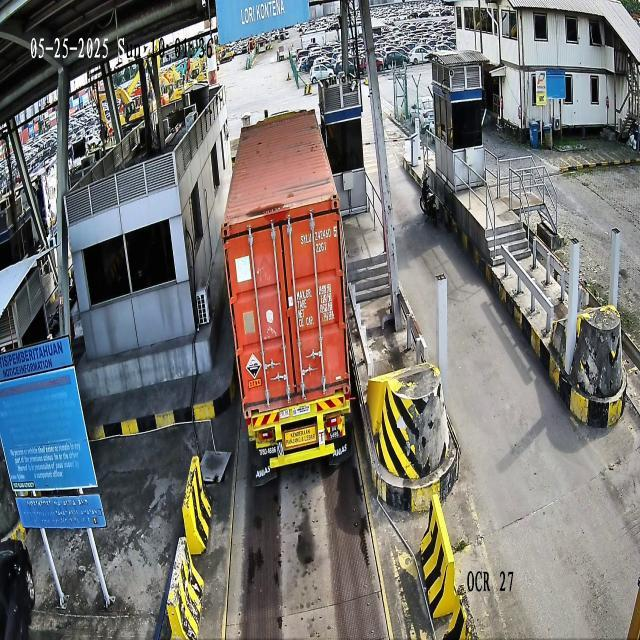ISO: (316, 241, 326, 254)
container_number: (300, 226, 337, 245)
